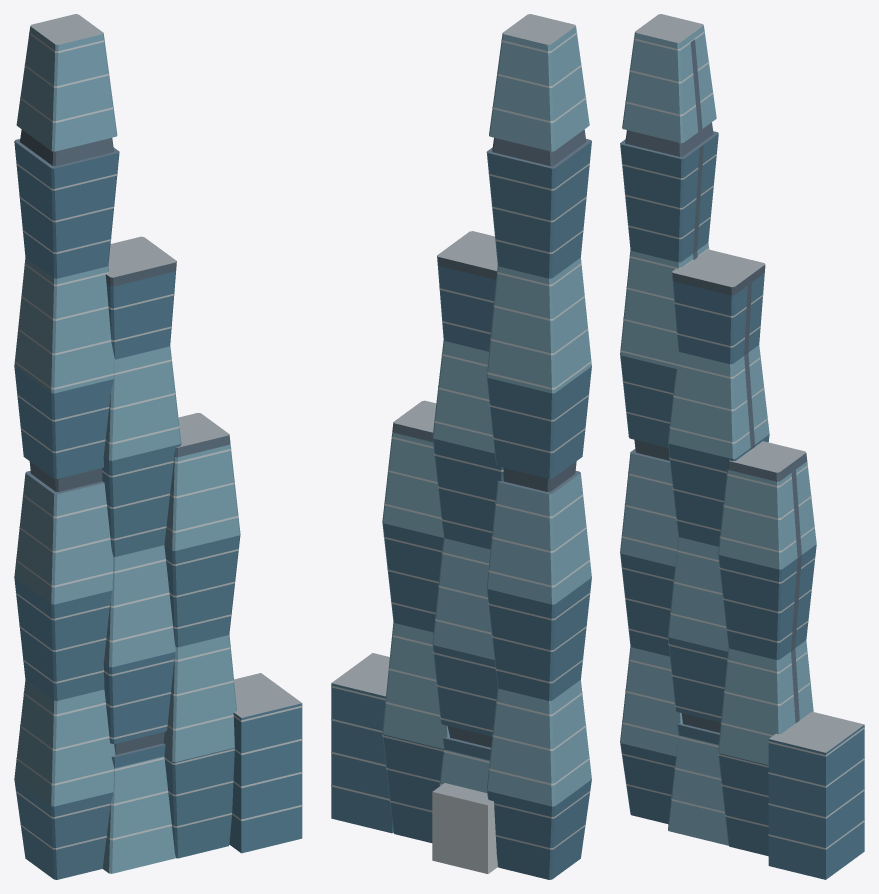
The model's file is chi-st-regis.glb.
The picture shows the model from 3 angles, left to right: view 1: azimuth 30°, elevation 25°; view 2: azimuth 150°, elevation 25°; view 3: azimuth 330°, elevation 25°; orthographic projection. The views are drawn at different scales.
Parts seen in each view (by area): view 1: St. Regis Chicago; view 2: St. Regis Chicago; view 3: St. Regis Chicago.
Part boxes in pixels (x1,y1,x2,y2): St. Regis Chicago: [14, 14, 302, 879]; St. Regis Chicago: [331, 14, 591, 879]; St. Regis Chicago: [620, 14, 864, 879].
Bounding box in the file's own units: 107 × 363 × 46.86.
